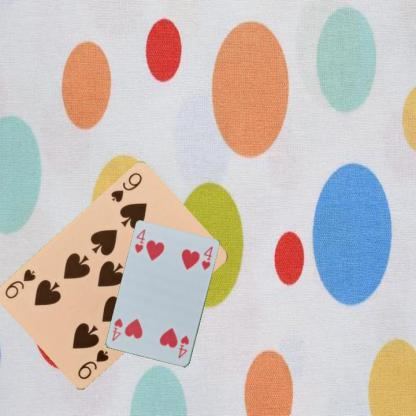4h: (132, 227, 147, 255), (176, 333, 190, 359)
9s: (74, 347, 110, 381), (108, 170, 143, 204)
